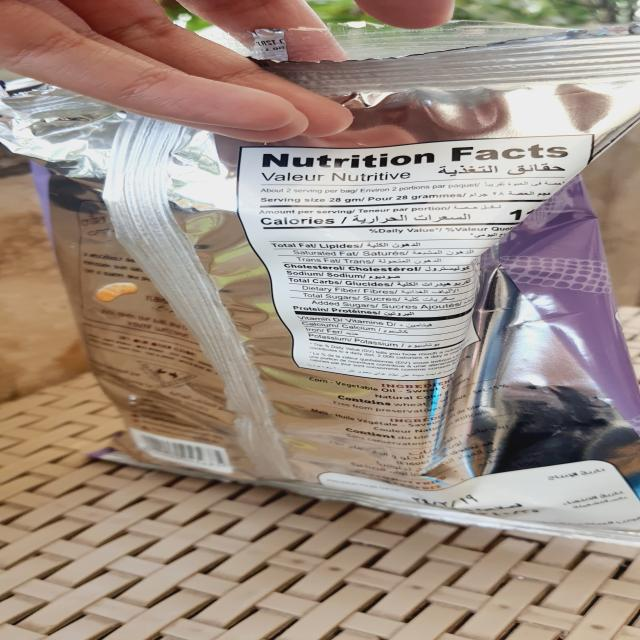Metal: (7, 19, 637, 545)
